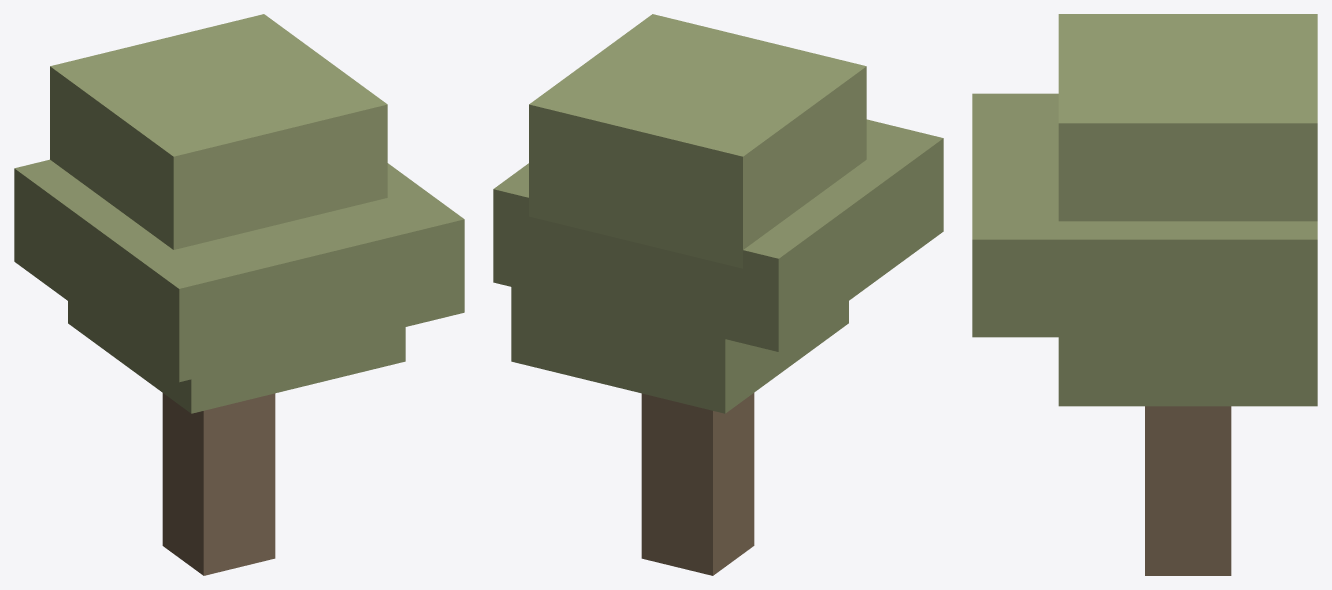
Rendered from tamarisco_01.glb.
3 views of the same model, side by side, from view 1: azimuth 30°, elevation 25°; view 2: azimuth 150°, elevation 25°; view 3: azimuth 270°, elevation 25° (orthographic). The views are drawn at different scales.
Visible parts, largest first — view 1: tamarisco_01; view 2: tamarisco_01; view 3: tamarisco_01.
Part boxes in pixels (x1=…): tamarisco_01: x1=14, y1=14, x2=464, y2=575; tamarisco_01: x1=493, y1=14, x2=943, y2=575; tamarisco_01: x1=972, y1=14, x2=1317, y2=575.
Size of the model in its own units: 1.6 by 2.5 by 1.6.
